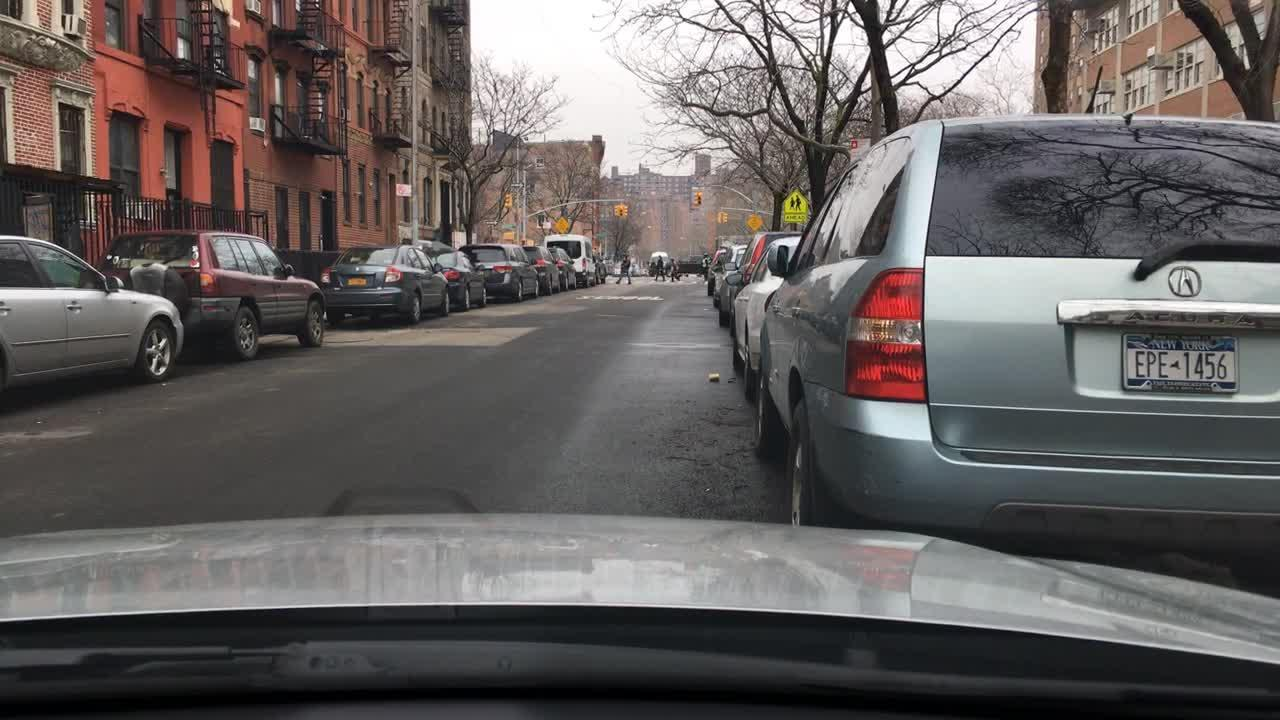acura: (1165, 260, 1206, 301)
